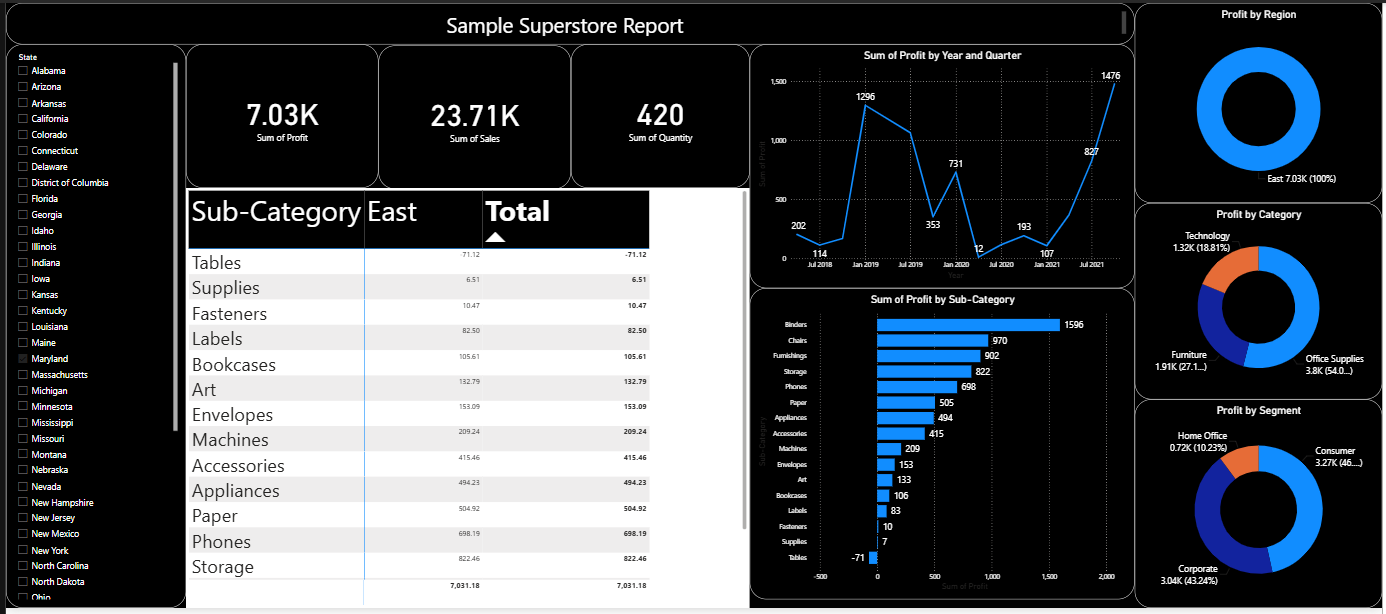

The page's visual inventory and layout, read from the dashboard file:
{"tool":"powerbi","page":{"name":"Page 1","canvas":[2500,1100],"ordinal":0},"visuals":[{"type":"textbox","box":[0,0,2050.8,74.9],"z":0},{"type":"donutChart","title":"Profit by Segment","fields":{"Category":["Orders.Segment"],"Y":["Sum(Orders.Profit)"]},"box":[2050.8,719.9,449.7,379.3],"z":1000},{"type":"donutChart","title":"Profit by Category","fields":{"Category":["Orders.Category"],"Y":["Sum(Orders.Profit)"]},"box":[2050.8,363.4,449.7,356.6],"z":2000},{"type":"donutChart","title":"Profit by Region","fields":{"Category":["Orders.Region"],"Y":["Sum(Orders.Profit)"]},"box":[2050.8,0,449.7,363.4],"z":3000},{"type":"barChart","fields":{"Category":["Orders.Sub-Category"],"Y":["Sum(Orders.Profit)"]},"box":[1351.3,517.8,699.5,565.5],"z":4000},{"type":"lineChart","fields":{"Category":["Orders.Order Date.Variation.Date Hierarchy.Year","Orders.Order Date.Variation.Date Hierarchy.Quarter","Orders.Order Date.Variation.Date Hierarchy.Month","Orders.Order Date.Variation.Date Hierarchy.Day"],"Y":["Sum(Orders.Profit)"]},"box":[1351.3,74.9,699.5,442.9],"z":5000},{"type":"slicer","fields":{"Values":["Orders.State"]},"box":[0,74.9,327,1024.3],"z":6000},{"type":"card","fields":{"Values":["Sum(Orders.Profit)"]},"box":[327,74.9,349.7,261.2],"z":7000},{"type":"card","fields":{"Values":["Sum(Orders.Sales)"]},"box":[676.8,77.2,349.7,261.2],"z":8000},{"type":"card","fields":{"Values":["Sum(Orders.Quantity)"]},"box":[1026.5,74.9,324.8,261.2],"z":9000},{"type":"pivotTable","fields":{"Rows":["Orders.Sub-Category"],"Columns":["Orders.Region"],"Values":["Sum(Orders.Profit)"]},"box":[327,336.1,1024.3,763.1],"z":10000}]}

Visuals, with their boxes in screenshot pixels (x1, y1, x2, y2), scaled from the page's 2500x1100 canvas onto the 1386x614 screenshot:
textbox: [x1=0, y1=0, x2=1137, y2=42]
"Profit by Segment" donutChart: [x1=1137, y1=402, x2=1385, y2=613]
"Profit by Category" donutChart: [x1=1137, y1=203, x2=1385, y2=402]
"Profit by Region" donutChart: [x1=1137, y1=0, x2=1385, y2=203]
barChart - Orders.Sub-Category x Sum(Orders.Profit): [x1=749, y1=289, x2=1137, y2=605]
lineChart - Orders.Order Date.Variation.Date Hierarchy.Year x Orders.Order Date.Variation.Date Hierarchy.Quarter: [x1=749, y1=42, x2=1137, y2=289]
slicer - Orders.State: [x1=0, y1=42, x2=181, y2=613]
card - Sum(Orders.Profit): [x1=181, y1=42, x2=375, y2=188]
card - Sum(Orders.Sales): [x1=375, y1=43, x2=569, y2=189]
card - Sum(Orders.Quantity): [x1=569, y1=42, x2=749, y2=188]
pivotTable - Orders.Sub-Category x Orders.Region: [x1=181, y1=188, x2=749, y2=613]
